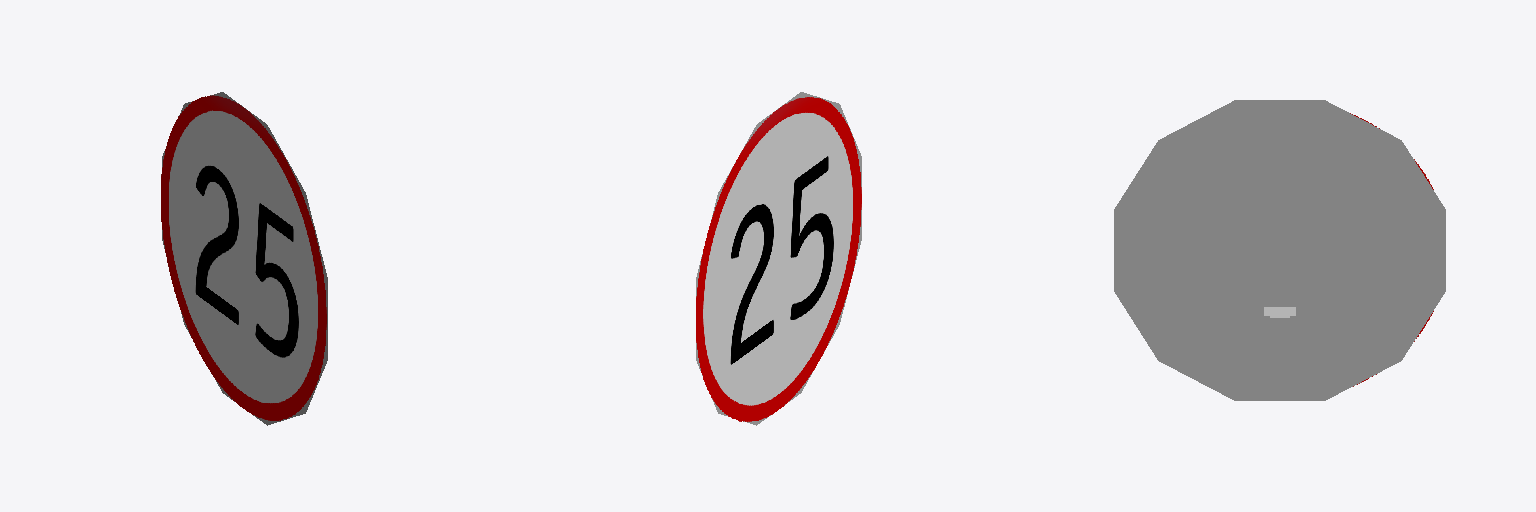
The picture shows the model from 3 angles: view 1: azimuth 30°, elevation 25°; view 2: azimuth 150°, elevation 25°; view 3: azimuth 270°, elevation 25°; orthographic projection.
Parts seen in each view (by area): view 1: cube, circle; view 2: cube, circle; view 3: circle, cube.
Part boxes in pixels (x1,y1,x2,y2): cube: (161, 95, 326, 420); circle: (162, 92, 327, 425); cube: (696, 97, 861, 421); circle: (696, 92, 861, 425); circle: (1114, 100, 1445, 400); cube: (1264, 113, 1433, 386).
Size of the model in its own units: 0.0797 by 1 by 1.
2 materials, 1 textured.